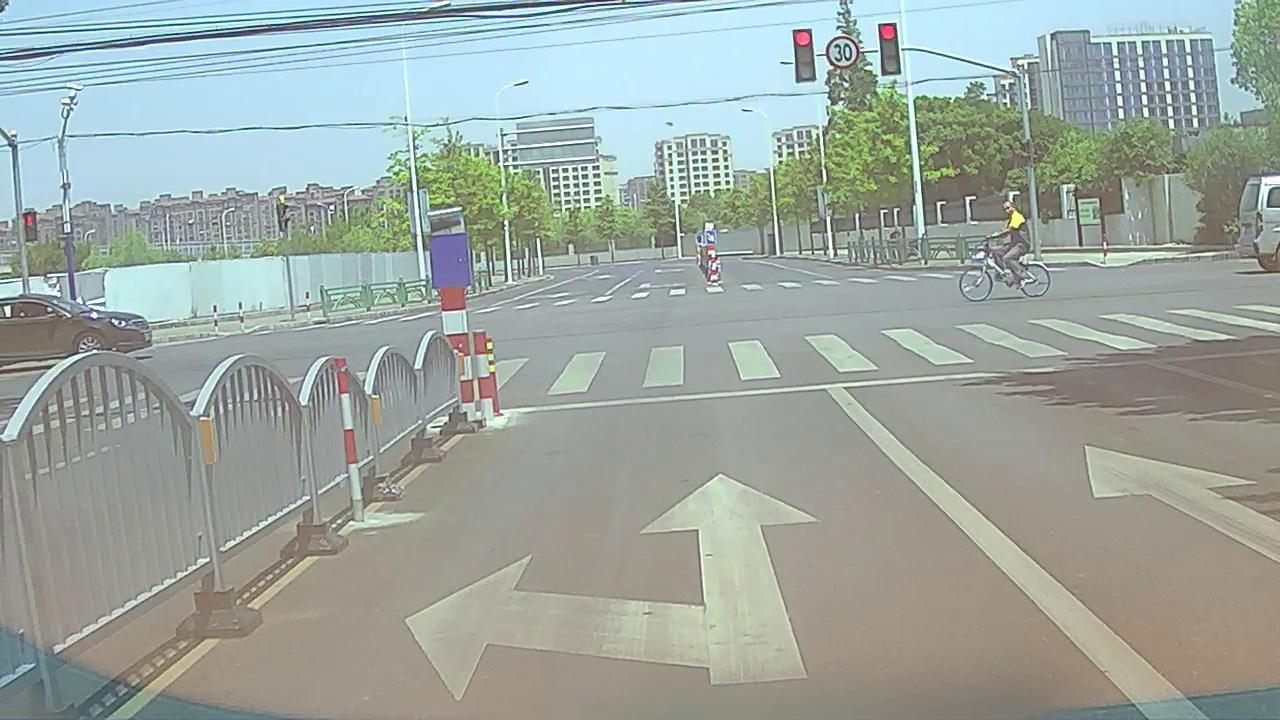traffic_light: (879, 22, 902, 75), (794, 31, 815, 80)
